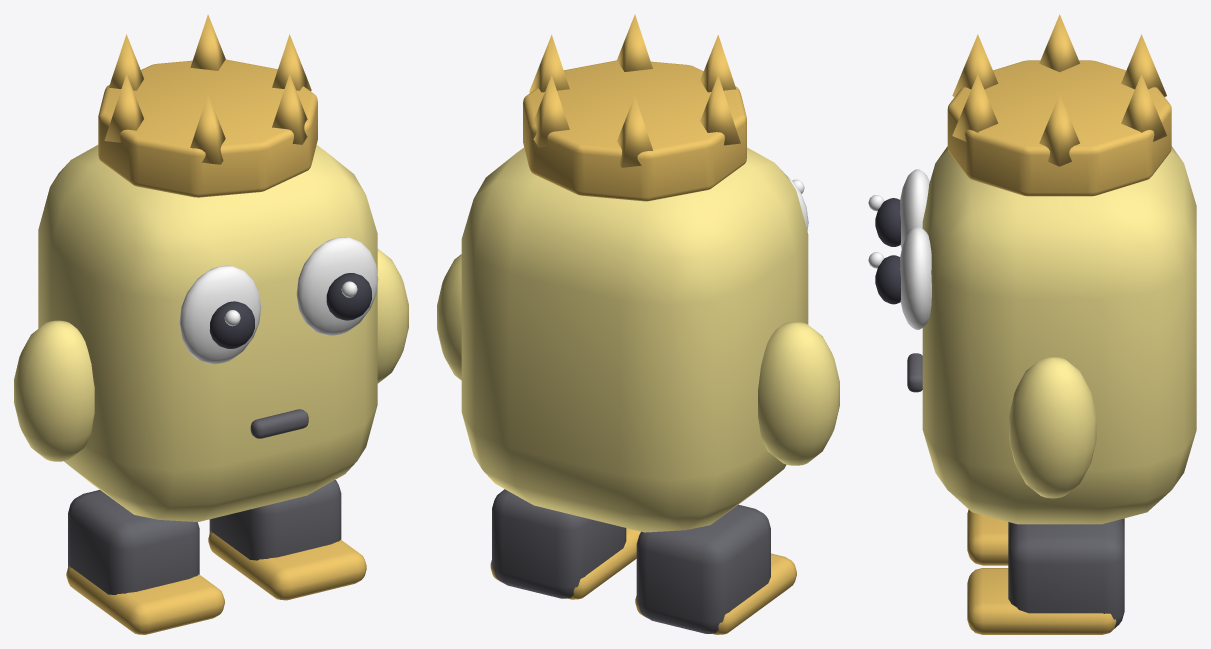
The model's file is pleb_king.glb.
The picture shows the model from 3 angles, left to right: view 1: azimuth 30°, elevation 25°; view 2: azimuth 150°, elevation 25°; view 3: azimuth 270°, elevation 25°; orthographic projection. The views are drawn at different scales.
Visible parts, largest first — view 1: pleb_king; view 2: pleb_king; view 3: pleb_king.
Boxes of the visible parts, box(x1,y1,x2,y2) form: pleb_king: box(14, 14, 408, 634); pleb_king: box(437, 14, 839, 634); pleb_king: box(868, 14, 1196, 634).
Size of the model in its own units: 1.29 by 1.7 by 0.959.
